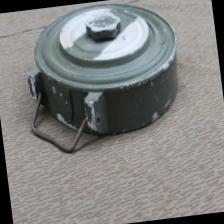TM-46: (10, 0, 180, 151)
